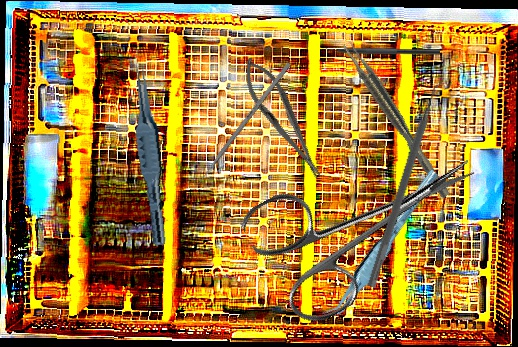Chopper: (320, 41, 440, 55)
Iris Scissors: (236, 105, 502, 334)
Needle Holder: (233, 51, 332, 186)
Pusher: (190, 62, 292, 193)
Spatula Surgical: (366, 79, 448, 291)
Tissue Forceps: (309, 168, 455, 324), (340, 38, 451, 202), (124, 63, 177, 247)
